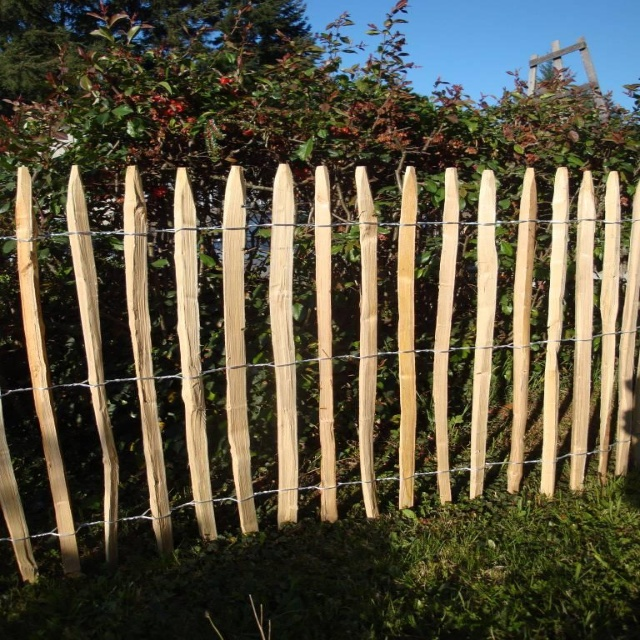obstacle: (0, 81, 640, 638)
